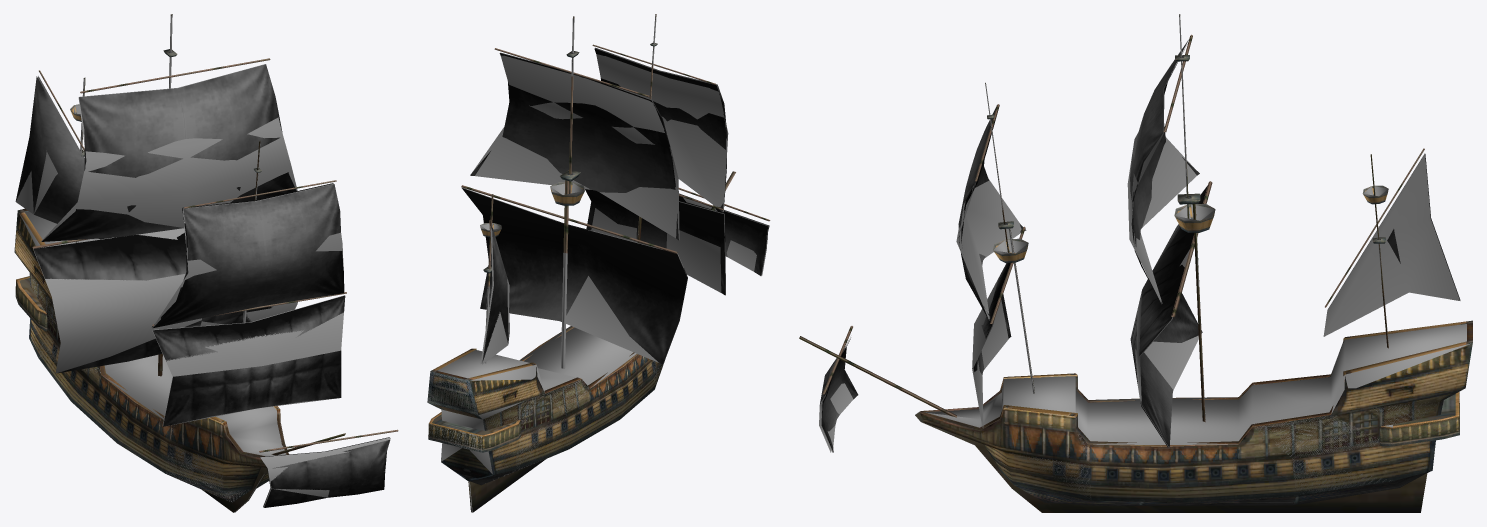
The model's file is F_Monster_026_m.fbx.
The picture shows the model from 3 angles, left to right: view 1: azimuth 30°, elevation 25°; view 2: azimuth 150°, elevation 25°; view 3: azimuth 270°, elevation 25°; orthographic projection. The views are drawn at different scales.
Visible parts, largest first — view 1: F_Ship_Sail, F_Ship_FakeShadow, F_Ship; view 2: F_Ship_Sail, F_Ship_FakeShadow, F_Ship; view 3: F_Ship, F_Ship_FakeShadow, F_Ship_Sail.
Part boxes in pixels (bbox=[...]): F_Ship_Sail: bbox=[16, 64, 390, 507]; F_Ship_FakeShadow: bbox=[15, 14, 390, 512]; F_Ship: bbox=[14, 14, 398, 512]; F_Ship_Sail: bbox=[462, 48, 769, 364]; F_Ship_FakeShadow: bbox=[427, 14, 768, 512]; F_Ship: bbox=[427, 14, 770, 512]; F_Ship: bbox=[799, 14, 1472, 512]; F_Ship_FakeShadow: bbox=[819, 14, 1470, 497]; F_Ship_Sail: bbox=[820, 40, 1460, 452].
Size of the model in its own units: 0.4503 by 0.7828 by 0.9598.
